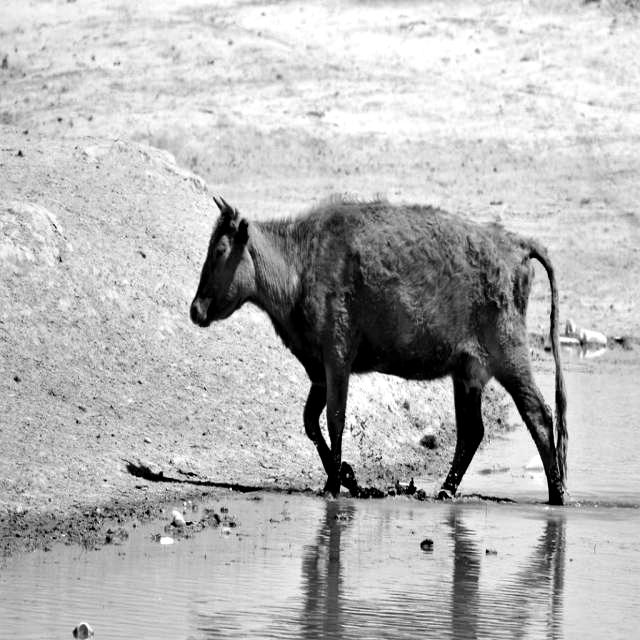COW: (191, 199, 566, 504)
